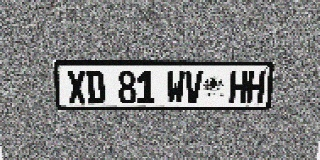1: (137, 71, 154, 104)
8: (118, 71, 136, 104)
D: (85, 71, 105, 104)
H: (246, 71, 266, 103), (229, 71, 248, 103)
V: (184, 71, 203, 103)
W: (167, 71, 185, 104)
X: (66, 71, 87, 104)
